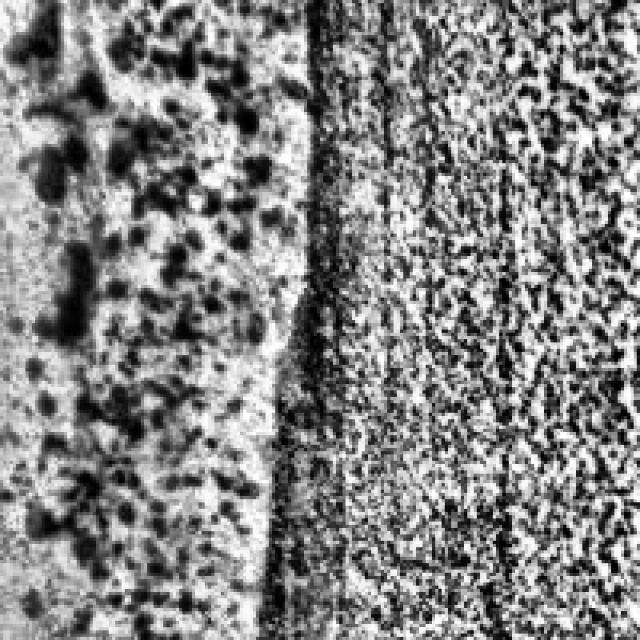Rolled_in_Scale: (307, 0, 634, 637), (22, 0, 288, 570)
